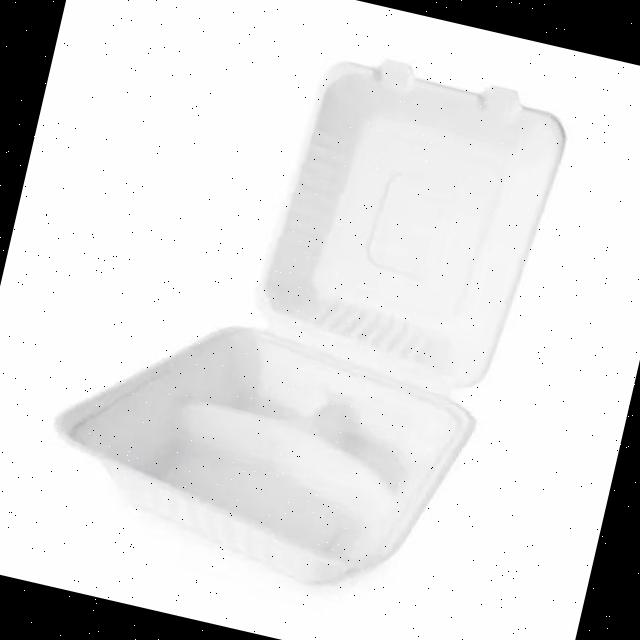styrofoam: (29, 0, 577, 619)
